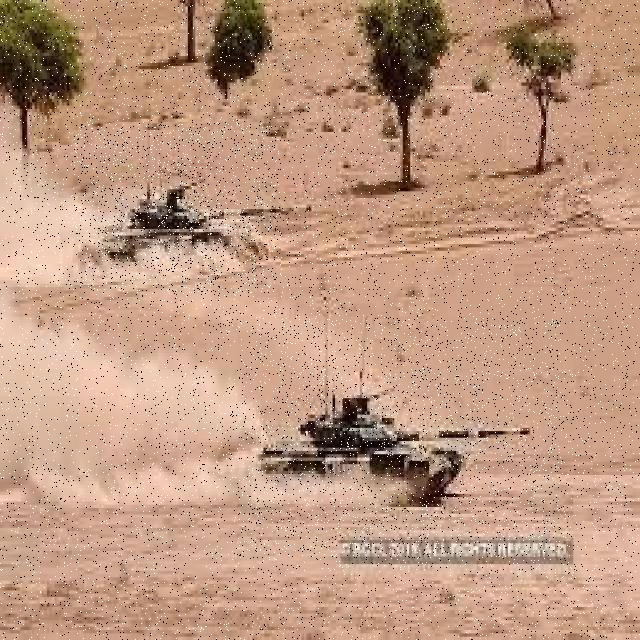MIL_MBT: (239, 318, 561, 558), (74, 124, 281, 293)
